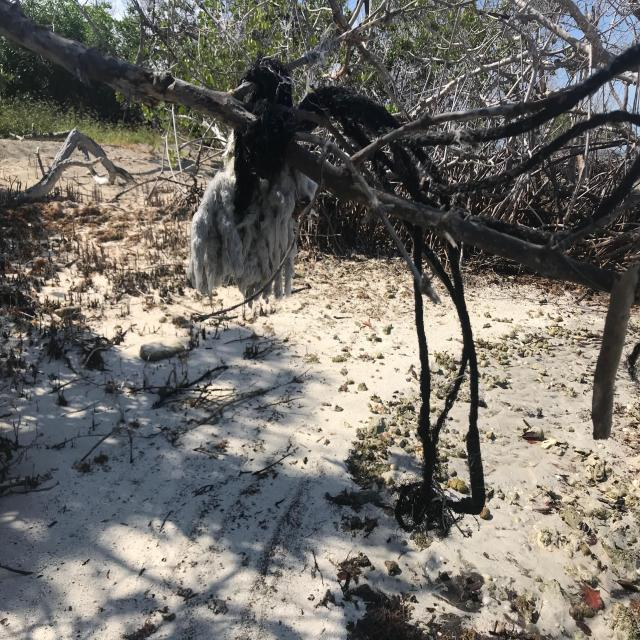litter: (176, 79, 316, 300)
